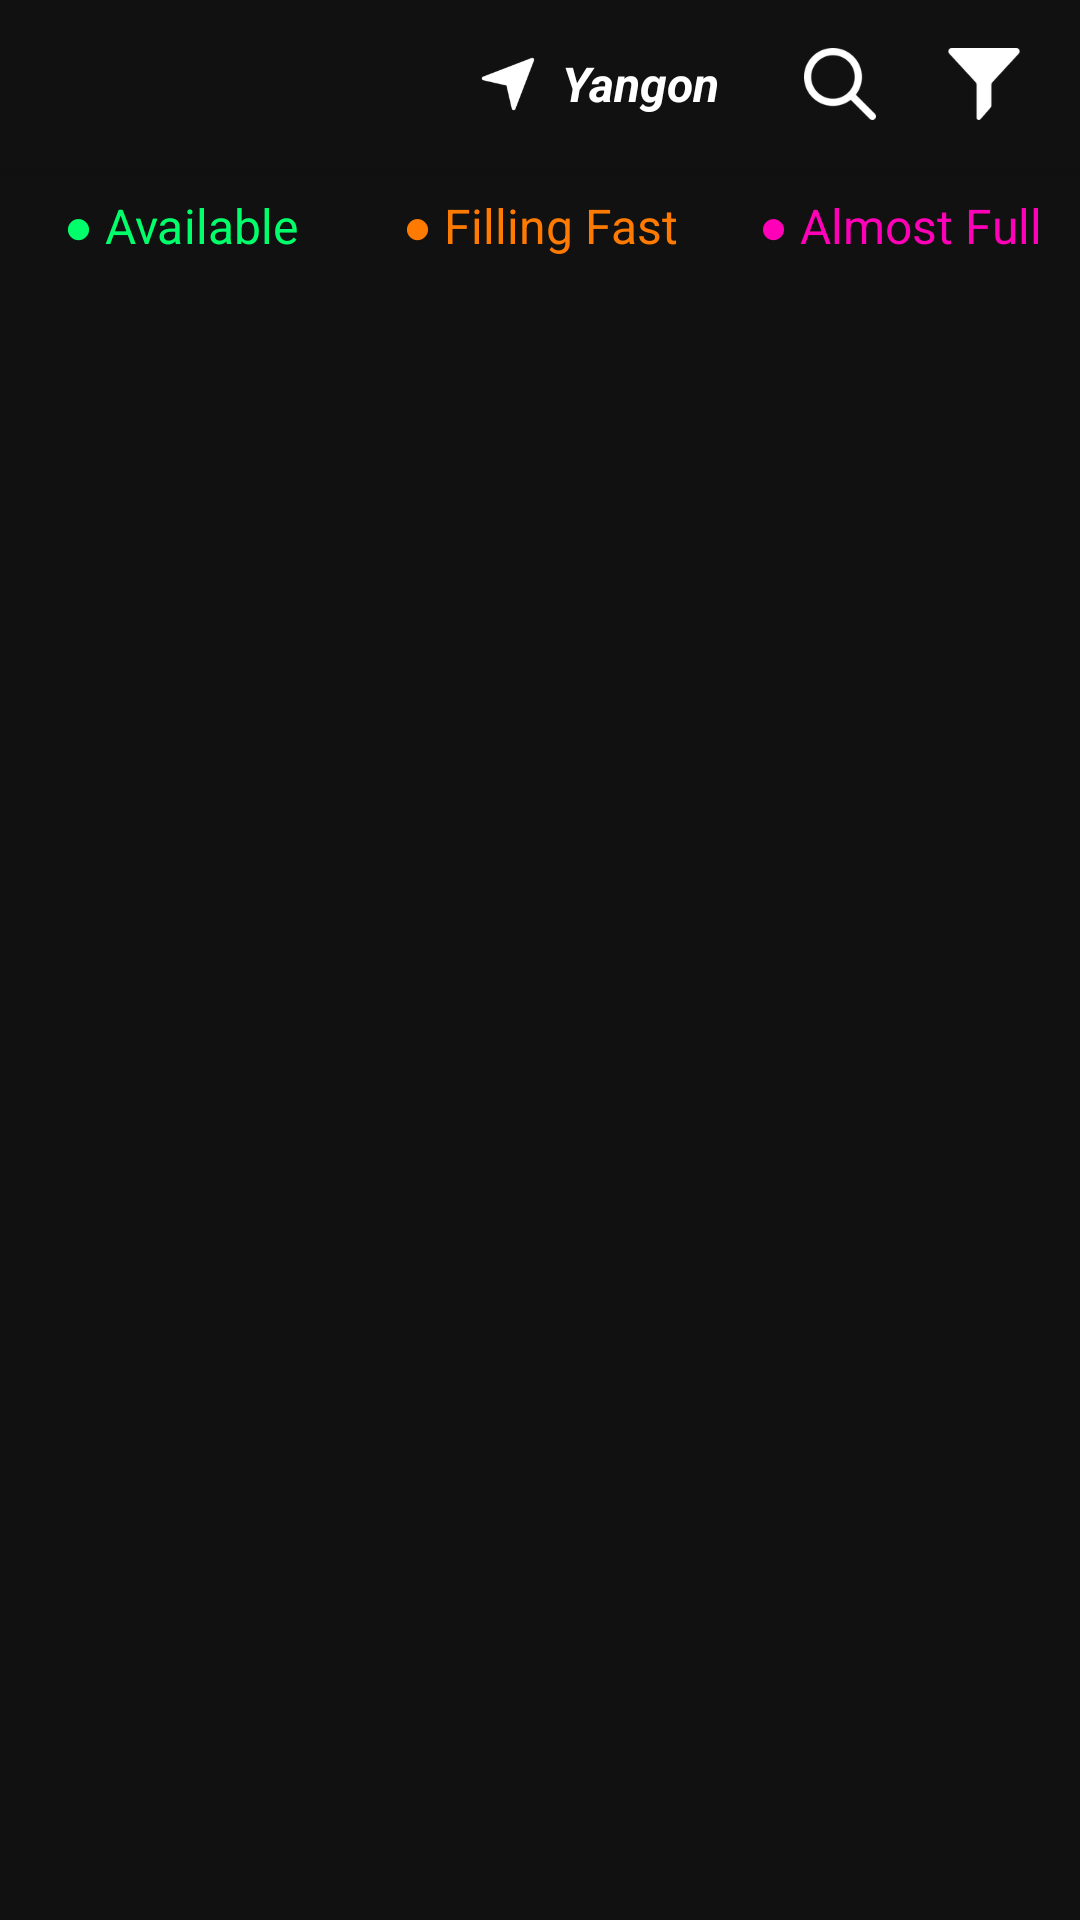

Locate icon controls on the screen. Image size 1080×1920, boxes as box=[x1, y1, x2, y2].
filter: box=[948, 48, 1020, 120]
navigate: box=[481, 58, 534, 111]
search: box=[804, 48, 876, 120]
